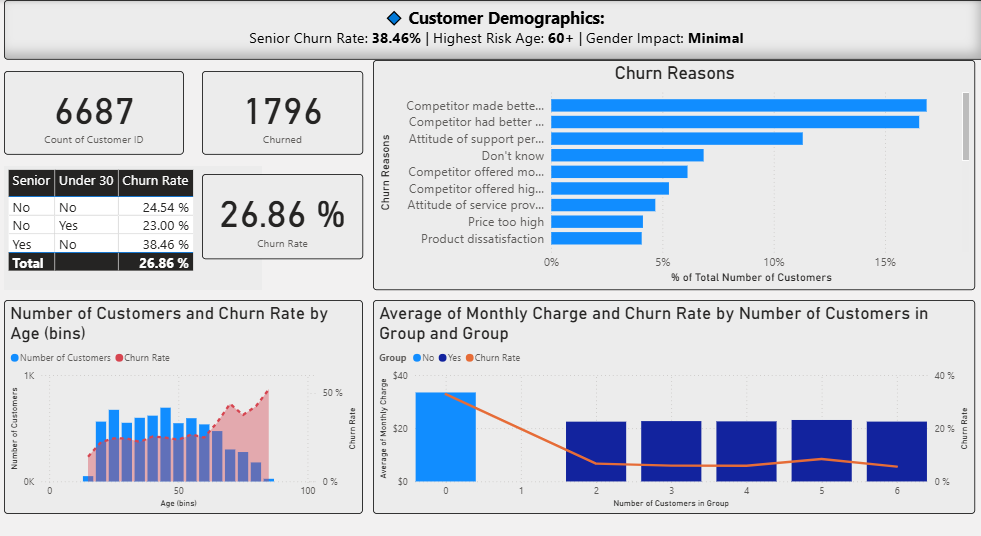

What the dashboard file says about the page in this screenshot:
{"tool":"powerbi","page":{"name":"Customer Demographics","canvas":[1280,720],"ordinal":1},"visuals":[{"type":"tableEx","fields":{"Values":["Databel - Data.Senior","Databel - Data.Under 30","Databel - Data.Churn Rate"]},"box":[14.2,214.2,332.9,160],"z":0},{"type":"clusteredBarChart","title":"Churn Reasons","fields":{"Category":["Databel - Data.Churn Reason"],"Y":["CountNonNull(Databel - Data.Number of Customers in Group)"]},"box":[490.3,77.4,776.8,296.8],"z":1000},{"type":"card","fields":{"Values":["Databel - Data.Churn Rate"]},"box":[269.7,224.5,207.7,109.7],"z":2000},{"type":"lineStackedColumnComboChart","fields":{"Category":["Databel - Data.Age (bins)"],"Y":["Databel - Data.Number of costumers"],"Y2":["Databel - Data.Churn Rate"]},"box":[14.2,387.1,463.2,276.1],"z":3000},{"type":"card","fields":{"Values":["Count(Databel - Data.Customer ID)"]},"box":[14.2,91.6,232.3,108.4],"z":4000},{"type":"card","fields":{"Values":["Sum(Databel - Data.Churned)"]},"box":[269.7,91.6,207.7,108.4],"z":5000},{"type":"lineStackedColumnComboChart","fields":{"Category":["Databel - Data.Number of Customers in Group"],"Y":["Avg(Databel - Data.Monthly Charge)"],"Series":["Databel - Data.Group"],"Y2":["Databel - Data.Churn Rate"]},"box":[490.3,387.1,776.8,276.1],"z":6000},{"type":"textbox","box":[14.2,0,1265.8,77.4],"z":7000}]}

Visuals, with their boxes in screenshot pixels (x1, y1, x2, y2), scaled from the page's 1280x720 canvas onto the 981x536 screenshot:
tableEx - Databel - Data.Senior x Databel - Data.Under 30: <region>11, 159, 266, 279</region>
"Churn Reasons" clusteredBarChart: <region>376, 58, 971, 279</region>
card - Databel - Data.Churn Rate: <region>207, 167, 366, 249</region>
lineStackedColumnComboChart - Databel - Data.Age (bins) x Databel - Data.Number of costumers: <region>11, 288, 366, 494</region>
card - Count(Databel - Data.Customer ID): <region>11, 68, 189, 149</region>
card - Sum(Databel - Data.Churned): <region>207, 68, 366, 149</region>
lineStackedColumnComboChart - Databel - Data.Number of Customers in Group x Avg(Databel - Data.Monthly Charge): <region>376, 288, 971, 494</region>
textbox: <region>11, 0, 980, 58</region>
